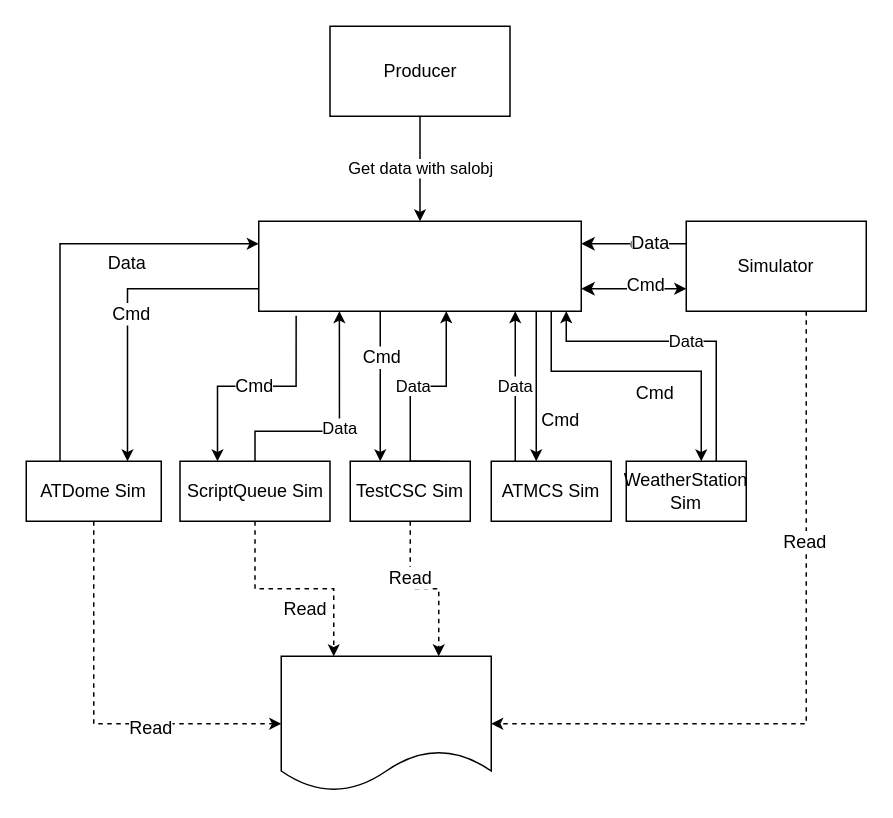
Some shapes in this 893 by 818 pixel diagram are drawn without their labels. Here are the shapes that lost their labels. From the top down, the centre of each, then its label:
[419,265]: SAL
[385,723]: config.json + Environment variables
